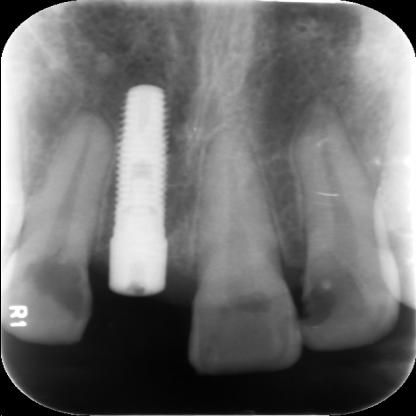Bego: (107, 83, 169, 300)
